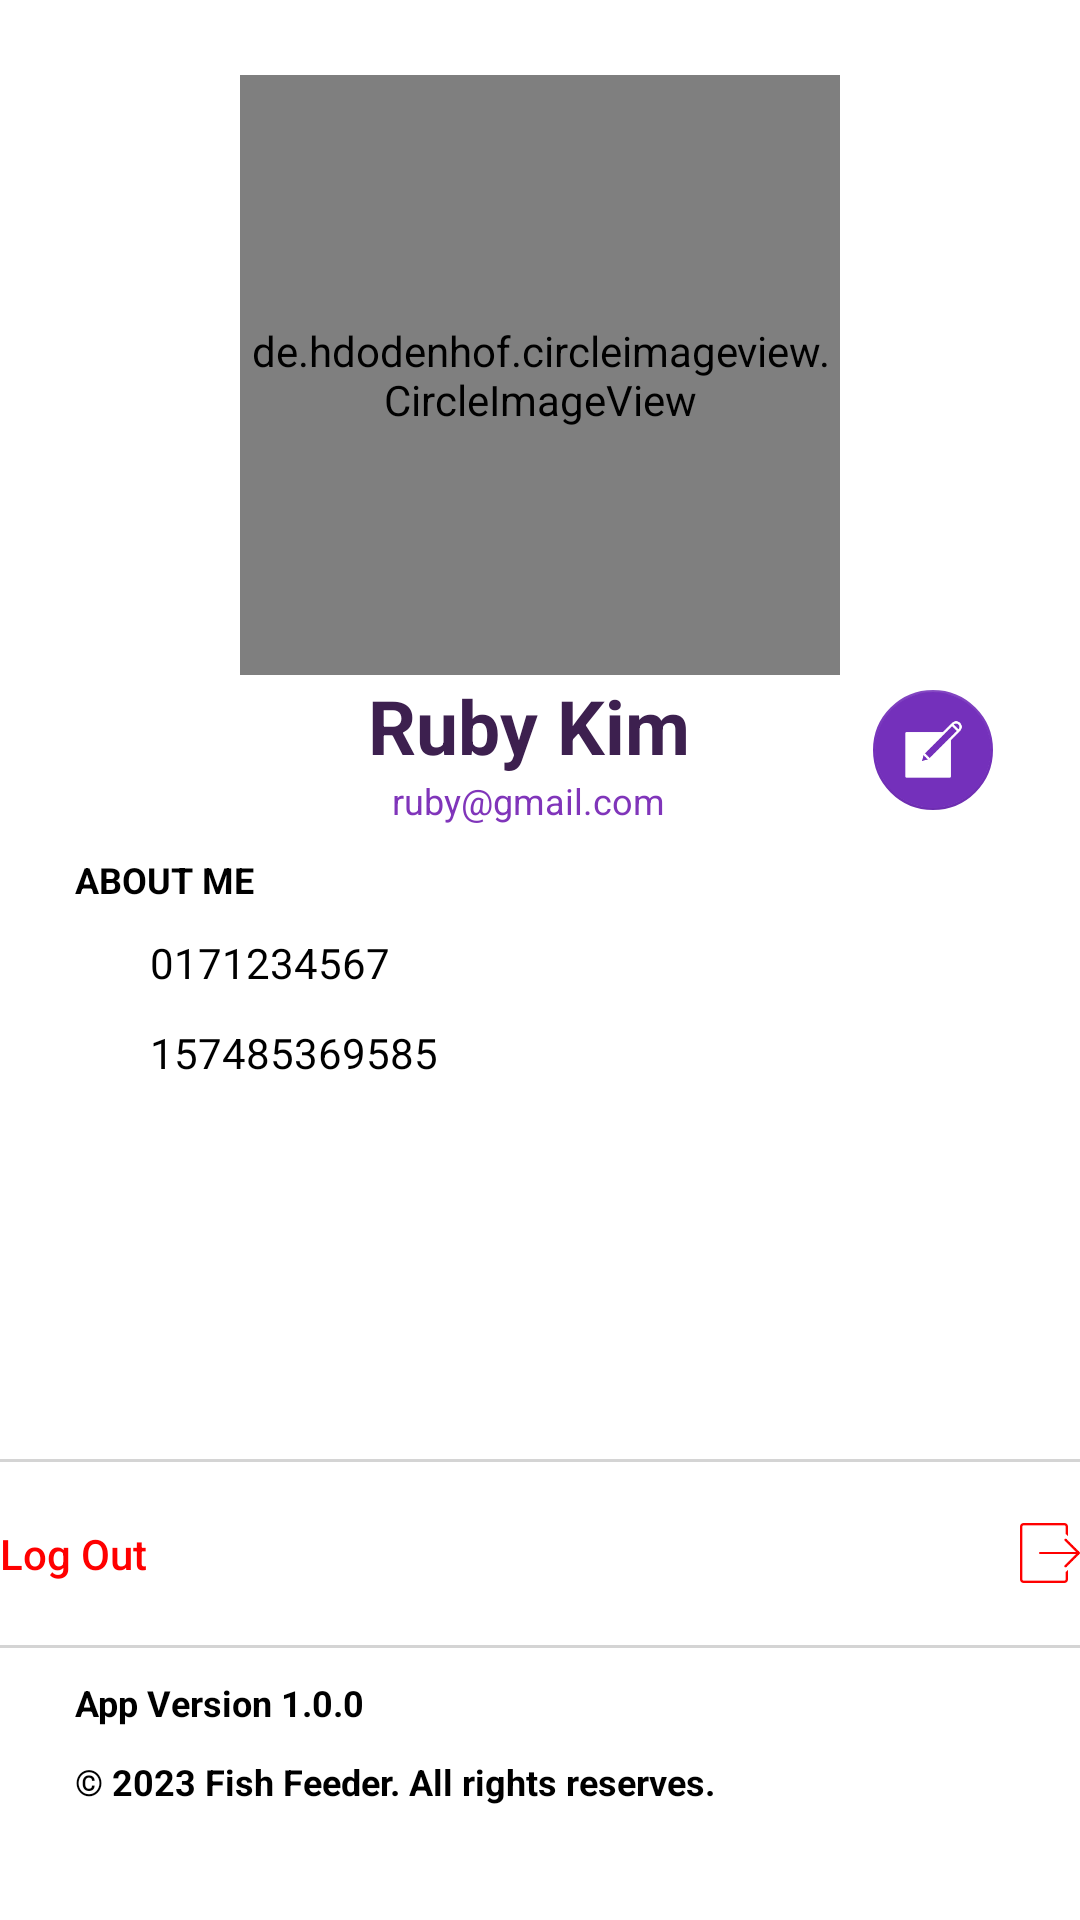

Icons on this 1080*1920 Android screen, each with the point to tap as [x,y]:
edit: [933,750]
